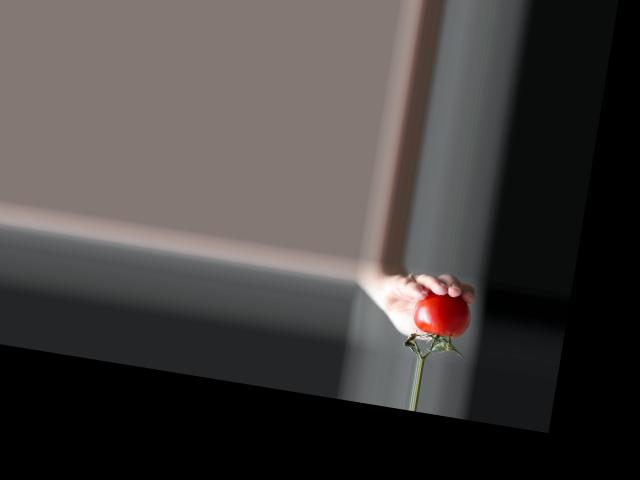tomato: (410, 288, 473, 341)
